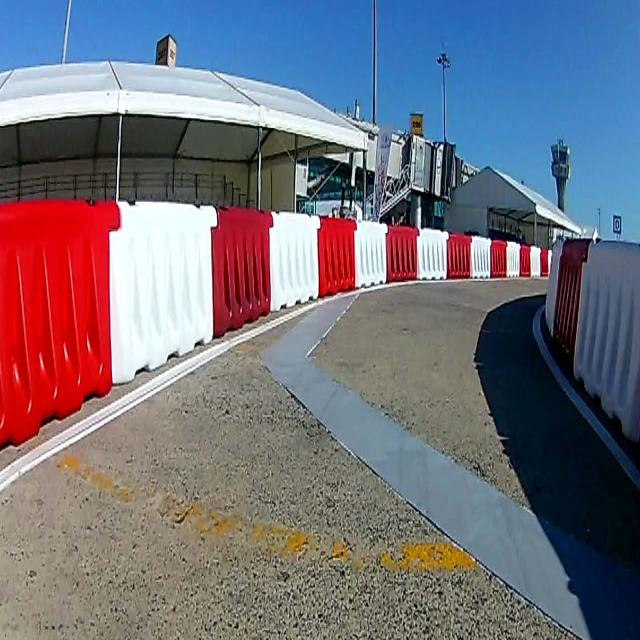durak: (613, 214, 621, 233)
